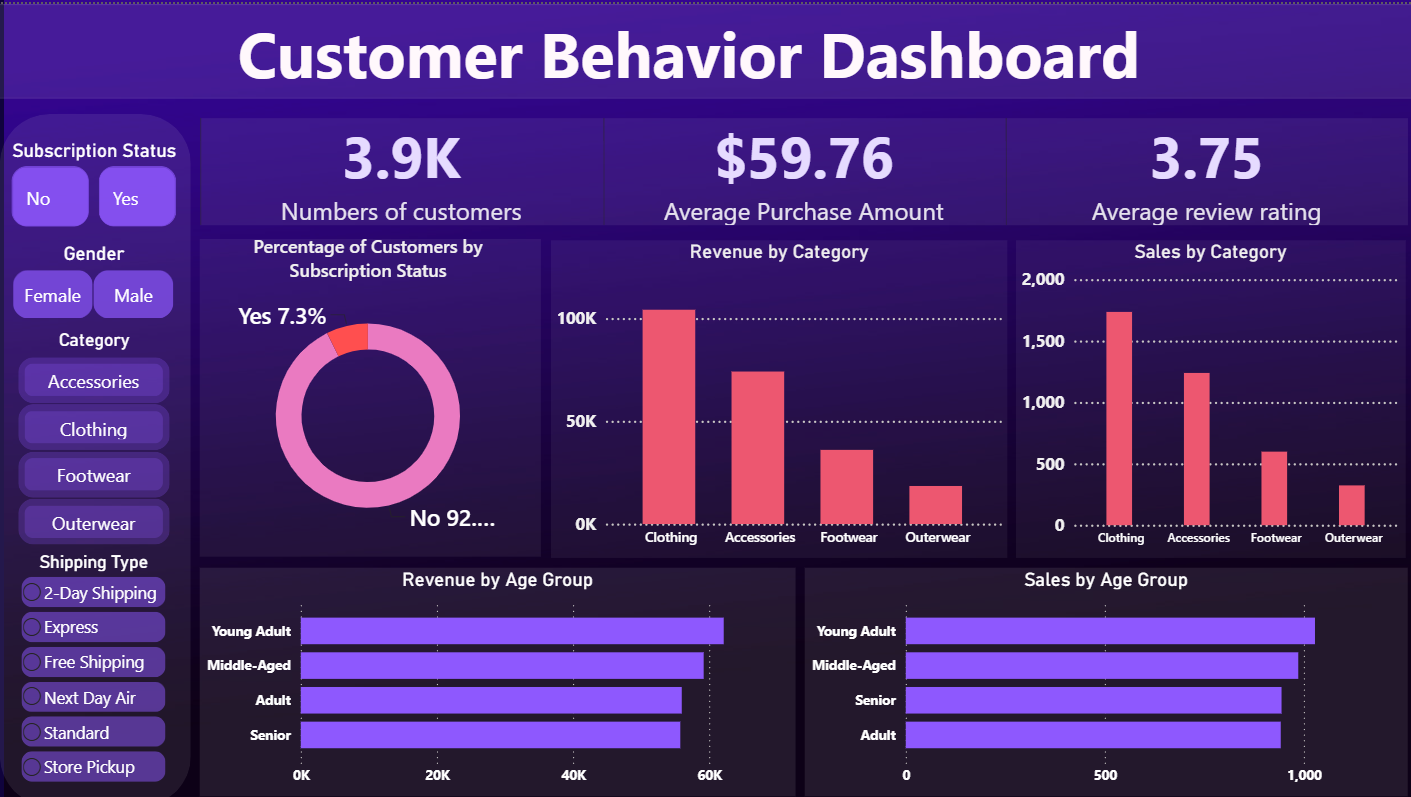

This screenshot's page, from the dashboard's own definition file:
{"tool":"powerbi","page":{"name":"Page 1","canvas":[1280,720],"ordinal":0},"visuals":[{"type":"shape","box":[199.3,209.1,303.3,282.5],"z":0},{"type":"shape","box":[20.9,97.7,170,615.1],"z":1000},{"type":"cardVisual","fields":{"Data":["public customer.Numbers of customers","public customer.Average Purchase Amount","public customer.Average review rating"]},"box":[194.4,96.6,1083.4,105.2],"z":2000},{"type":"shape","box":[0,0,1280.3,84.4],"z":3000},{"type":"textbox","box":[189.4,0,887.3,97.2],"z":4000},{"type":"donutChart","title":"Percentage of Customers by Subscription Status","fields":{"Category":["public customer.subscription_status"],"Y":["Sum(public customer.customer_id)"]},"box":[194.4,203,308.2,282.5],"z":5000},{"type":"clusteredColumnChart","title":"Revenue by Category","fields":{"Category":["public customer.category"],"Y":["Sum(public customer.purchase_amount)"]},"box":[511.1,210.3,406,282.5],"z":6000},{"type":"clusteredColumnChart","title":"Sales by Category","fields":{"Category":["public customer.category"],"Y":["CountNonNull(public customer.customer_id)"]},"box":[924.5,210.3,346.1,282.5],"z":7000},{"type":"advancedSlicerVisual","title":"Subscription  Status","fields":{"Values":["public customer.subscription_status"]},"box":[26.7,119.8,157,83.7],"z":8000},{"type":"advancedSlicerVisual","title":"Gender","fields":{"Values":["public customer.gender"]},"box":[26.9,211.6,156.5,74.6],"z":9000},{"type":"advancedSlicerVisual","title":"Category","fields":{"Values":["public customer.category"]},"box":[30.6,289.8,148,196.9],"z":10000},{"type":"listSlicer","title":"Shipping Type","fields":{"Values":["public customer.shipping_type"]},"box":[35.5,486.7,138.2,212.8],"z":11000},{"type":"clusteredBarChart","title":"Revenue by Age Group","fields":{"Category":["public customer.age_group"],"Y":["Sum(public customer.purchase_amount)"]},"box":[199.3,501.4,529.5,203],"z":12000},{"type":"clusteredBarChart","title":"Sales by Age Group","fields":{"Category":["public customer.age_group"],"Y":["CountNonNull(public customer.customer_id)"]},"box":[736.1,501.4,535.6,203],"z":13000}]}

Visuals, with their boxes in screenshot pixels (x1, y1, x2, y2), scaled from the page's 1280x720 canvas onto the 1411x797 screenshot:
shape: select_region(220, 231, 554, 544)
shape: select_region(23, 108, 210, 789)
cardVisual - public customer.Numbers of customers x public customer.Average Purchase Amount: select_region(214, 107, 1409, 223)
shape: select_region(0, 0, 1410, 93)
textbox: select_region(209, 0, 1187, 108)
"Percentage of Customers by Subscription Status" donutChart: select_region(214, 225, 554, 537)
"Revenue by Category" clusteredColumnChart: select_region(563, 233, 1011, 546)
"Sales by Category" clusteredColumnChart: select_region(1019, 233, 1401, 546)
"Subscription  Status" advancedSlicerVisual: select_region(29, 133, 203, 225)
"Gender" advancedSlicerVisual: select_region(30, 234, 202, 317)
"Category" advancedSlicerVisual: select_region(34, 321, 197, 539)
"Shipping Type" listSlicer: select_region(39, 539, 191, 774)
"Revenue by Age Group" clusteredBarChart: select_region(220, 555, 803, 780)
"Sales by Age Group" clusteredBarChart: select_region(811, 555, 1402, 780)
